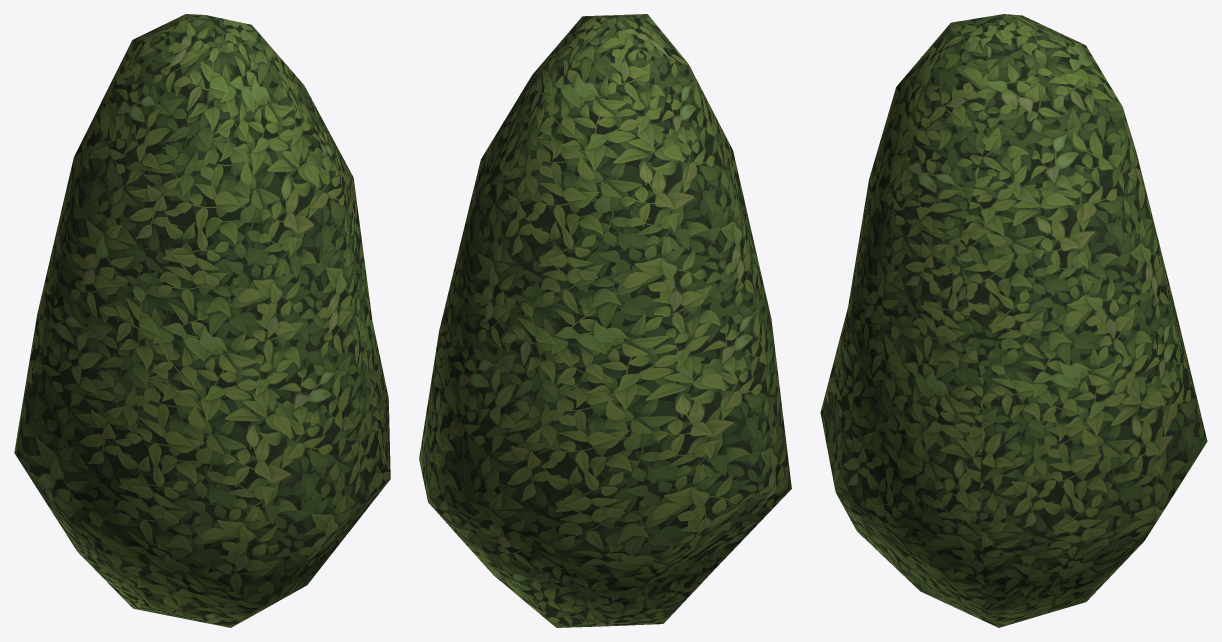
Rendered from art_roofTree.fbx.
3 views of the same model, side by side, from view 1: azimuth 30°, elevation 25°; view 2: azimuth 150°, elevation 25°; view 3: azimuth 270°, elevation 25° (orthographic).
Visible parts, largest first — view 1: art_roofTree; view 2: art_roofTree; view 3: art_roofTree.
Part boxes in pixels (bbox=[...]): art_roofTree: bbox=[14, 14, 390, 627]; art_roofTree: bbox=[419, 14, 791, 627]; art_roofTree: bbox=[820, 14, 1207, 627].
Bounding box in the file's own units: 1657 × 2853 × 1657.
1 material, 1 textured.
